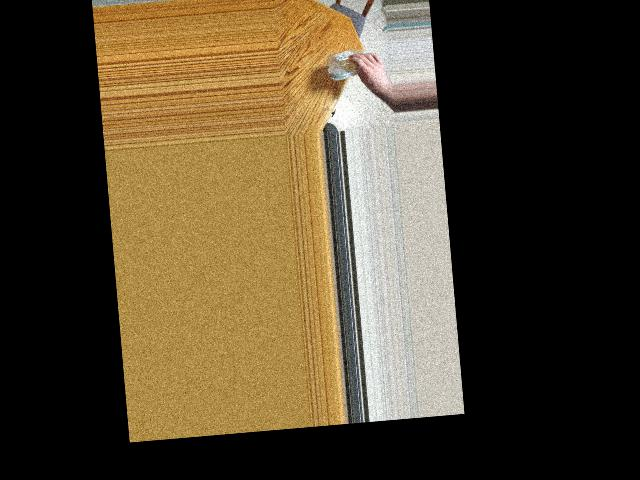cheese: (334, 47, 374, 83)
